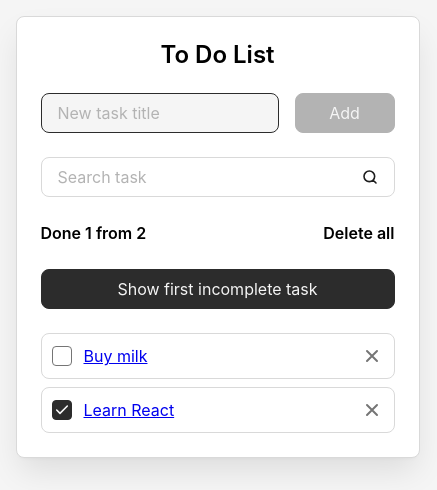
Test: Todo › deletes a task when the delete button is clicked
Expected: the list item "Buy milk" is shown, [40, 333, 394, 379]
Click the button named "Delete" in the row of "Buy milk": (372, 356) [350, 334, 394, 378]
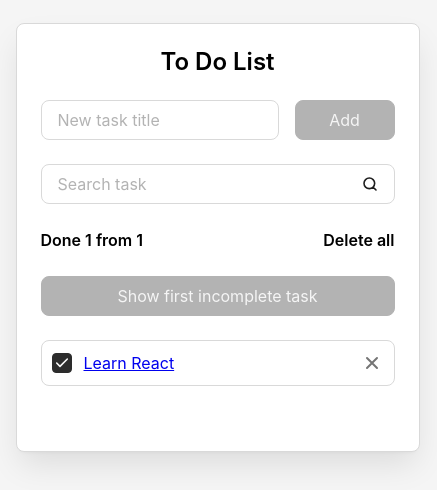
Expected: the checkbox named "Learn React" is shown, [52, 353, 72, 373]
Expected: the link "Buy milk" is gone
